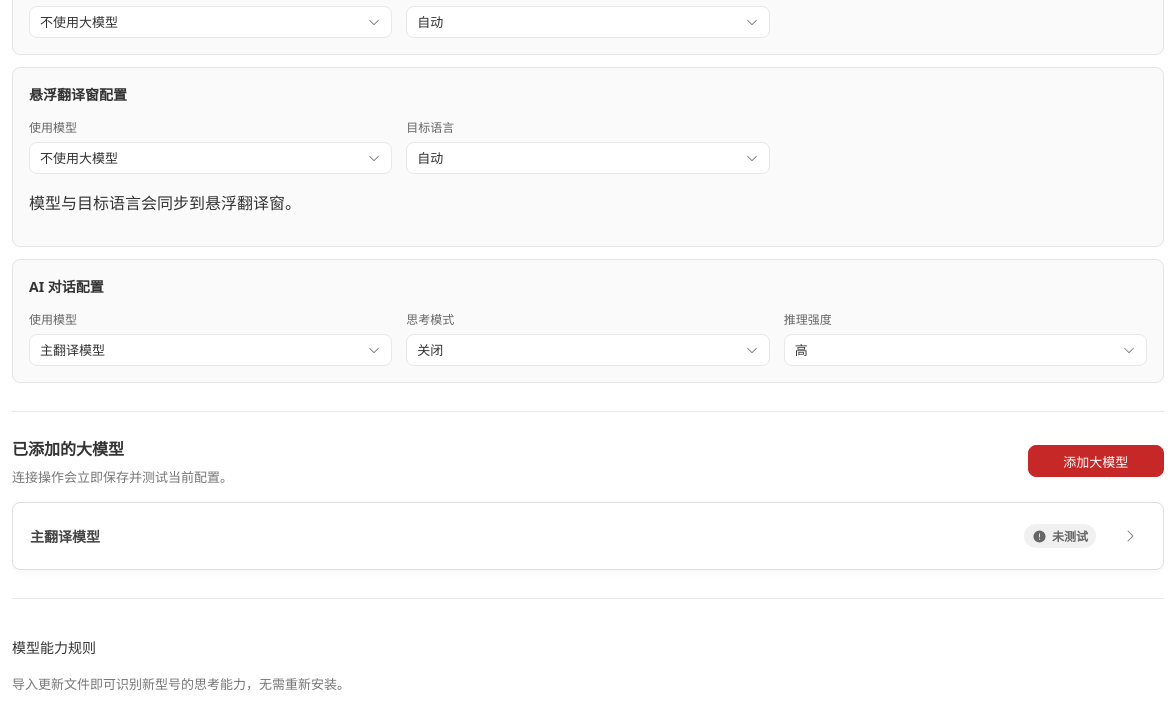
it: limits off-mode Opus effort to active legal grades while preserving its preferred max on toggle
(page scrolled)
Click the dropdown named "AI 对话推理强度".
click(801, 350)  # box [784,334,1147,366]
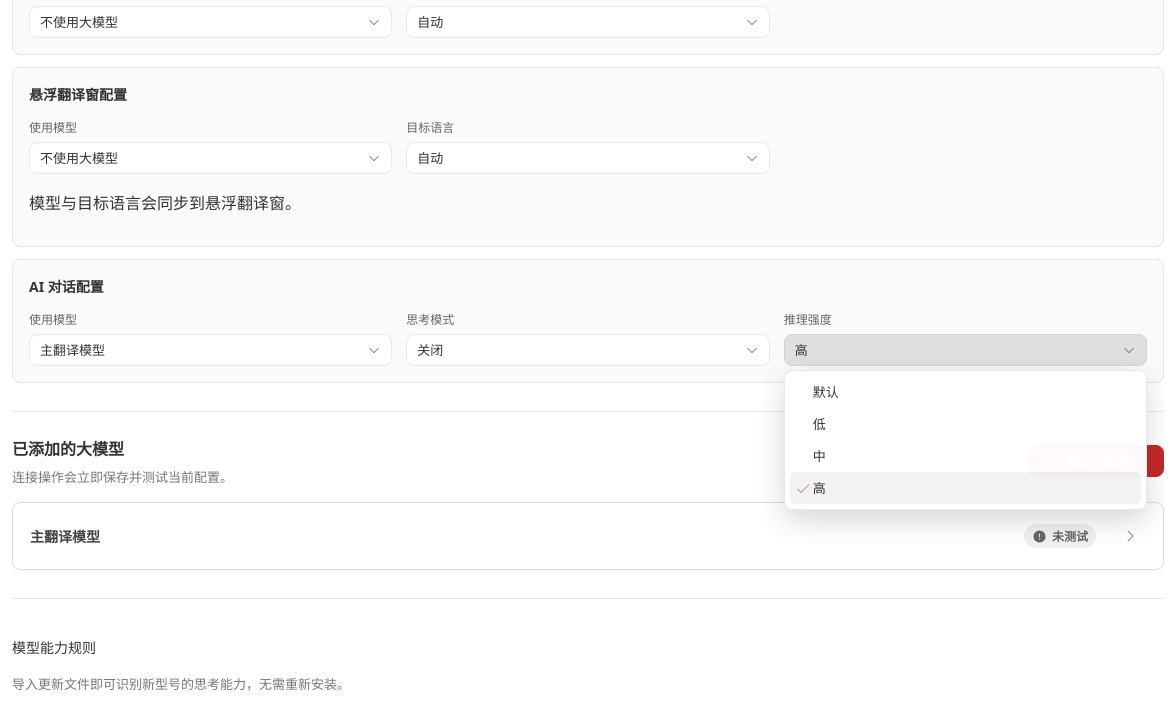
Expected: the options read "默认", "低", "中", "高", in this order, [790,376,1141,408]; [790,408,1141,440]; [790,440,1141,472]; [790,472,1141,504]
